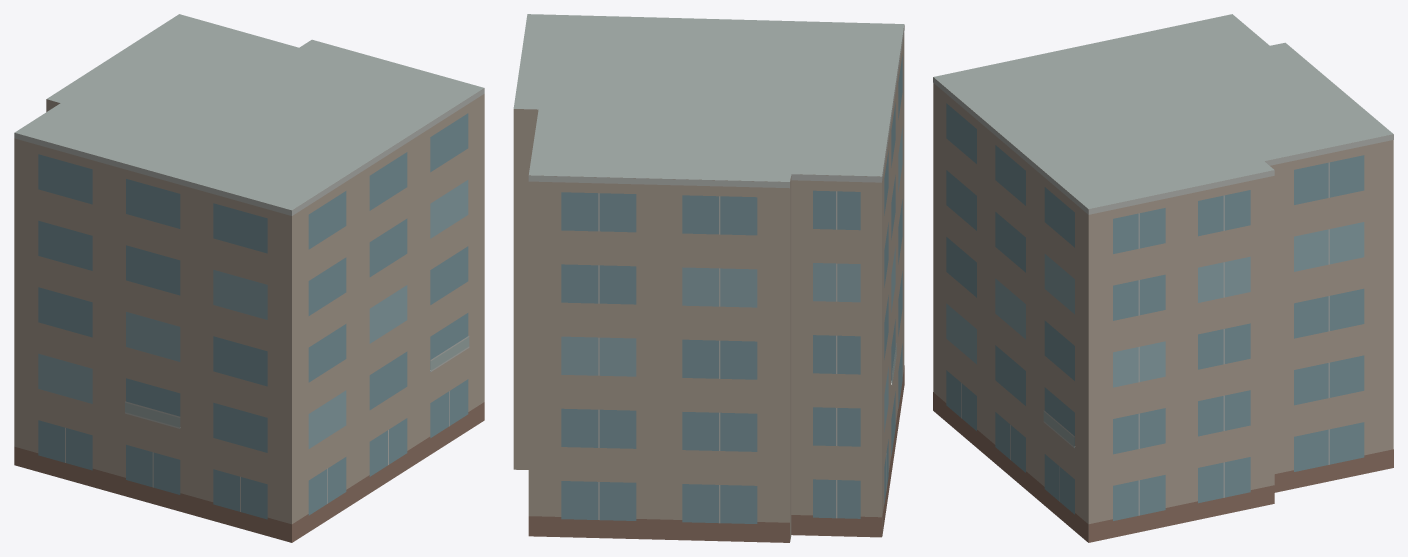
File: survey-upis-33005345.glb
3 views of the same model, side by side, from view 1: azimuth 30°, elevation 25°; view 2: azimuth 150°, elevation 25°; view 3: azimuth 270°, elevation 25° (orthographic). The views are drawn at different scales.
Parts seen in each view (by area): view 1: survey-upis-33005345.tmp; view 2: survey-upis-33005345.tmp; view 3: survey-upis-33005345.tmp.
Boxes of the visible parts, left/top/right/bottom form: survey-upis-33005345.tmp: left=14, top=14, right=484, bottom=542; survey-upis-33005345.tmp: left=513, top=14, right=904, bottom=542; survey-upis-33005345.tmp: left=933, top=14, right=1393, bottom=542.
Bounding box in the file's own units: 17.95 × 14.3 × 17.9.
